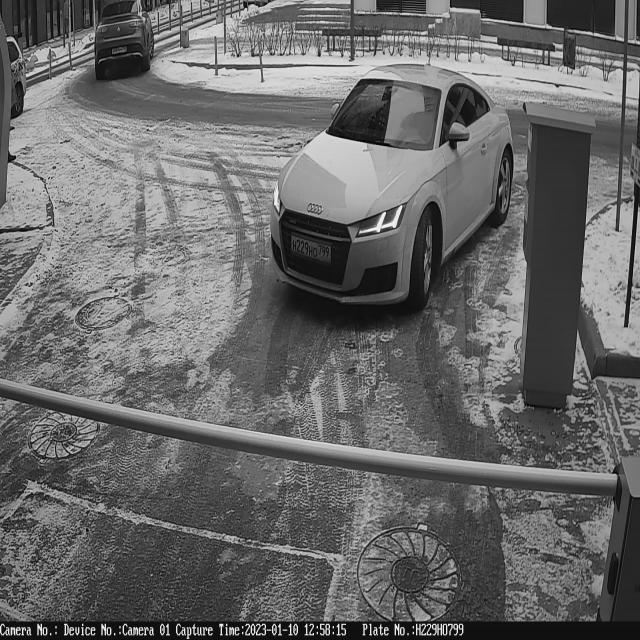car-plate-numbers: (288, 233, 335, 264)
